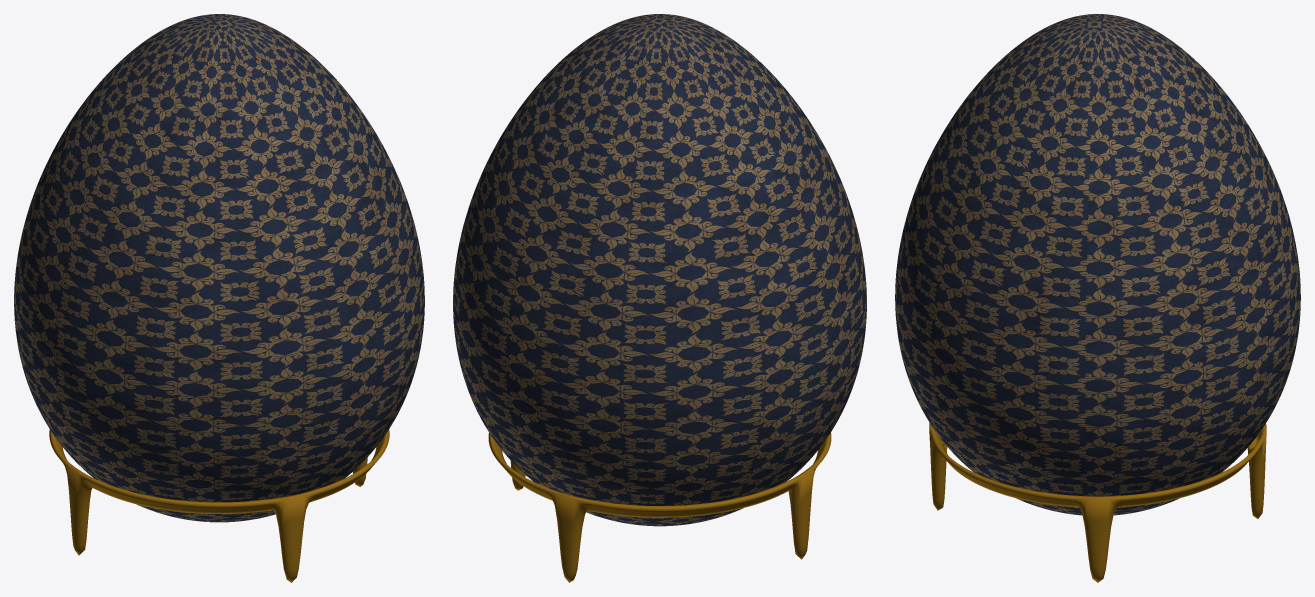
Rendered from faberge.glb.
The picture shows the model from 3 angles, left to right: view 1: azimuth 30°, elevation 25°; view 2: azimuth 150°, elevation 25°; view 3: azimuth 270°, elevation 25°; orthographic projection. The views are drawn at different scales.
Parts seen in each view (by area): view 1: fab1_1, fab2_2; view 2: fab1_1, fab2_2; view 3: fab1_1, fab2_2.
Boxes of the visible parts, x1,y1,x2,y2 form: fab1_1: (14,14,424,522); fab2_2: (49,429,389,582); fab1_1: (453,14,866,526); fab2_2: (488,432,831,582); fab1_1: (895,14,1300,515); fab2_2: (929,422,1266,582).
Size of the model in its own units: 1.88 by 2.52 by 1.88.
2 materials, 1 textured.
